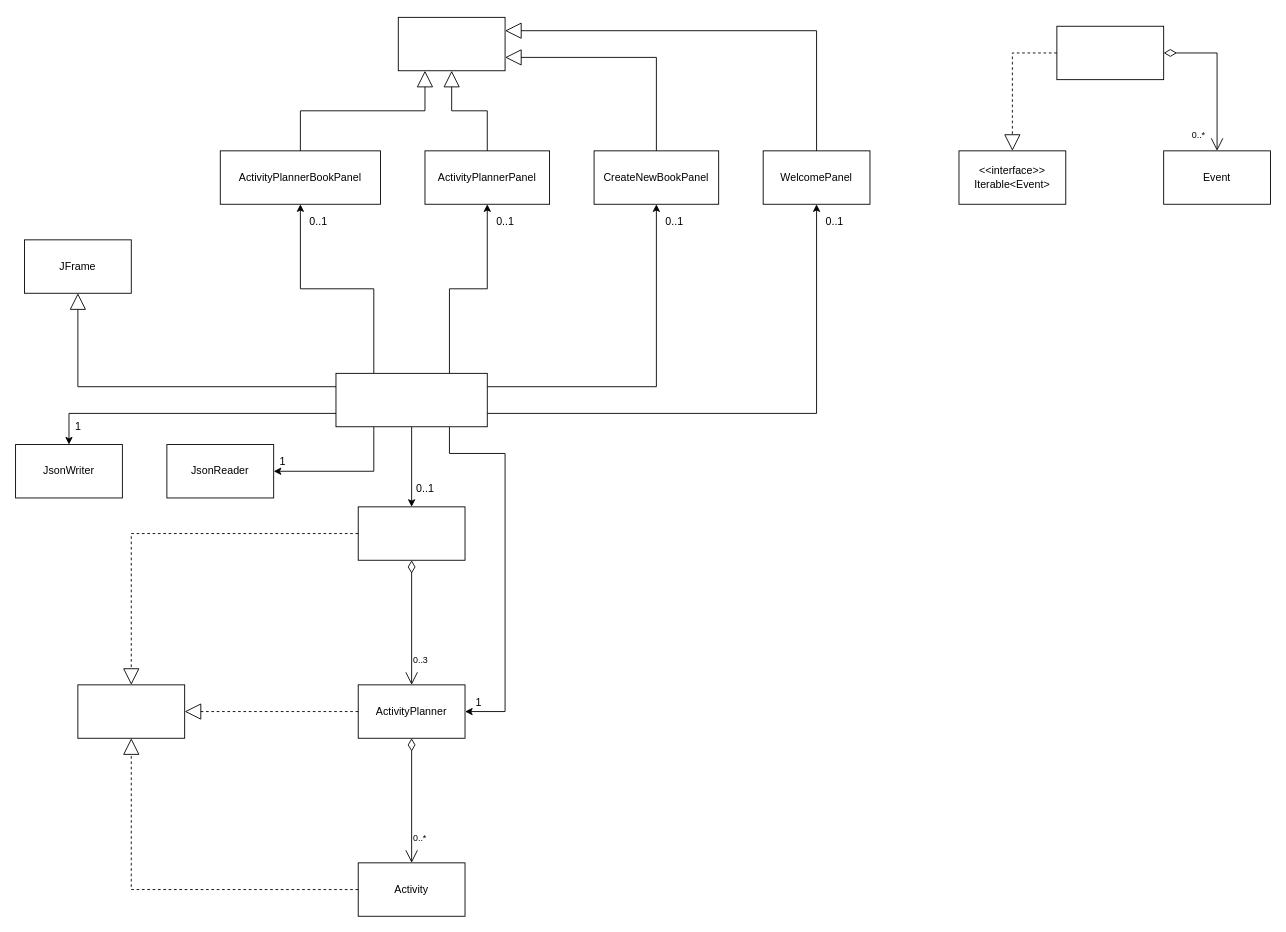
The diagram is 1286 pixels wide and 932 high, and some of its shapes have lost their labels. The box of each missing label's shape, as (x1, y1, x2, y2) in pixels:
<<interface>> Writable: (77, 684, 185, 738)
ActivityPlannerBook: (357, 506, 465, 560)
ActivityPlannerBookFrame: (335, 372, 487, 427)
EventLog: (1056, 25, 1164, 80)
JPanel: (397, 16, 505, 71)
